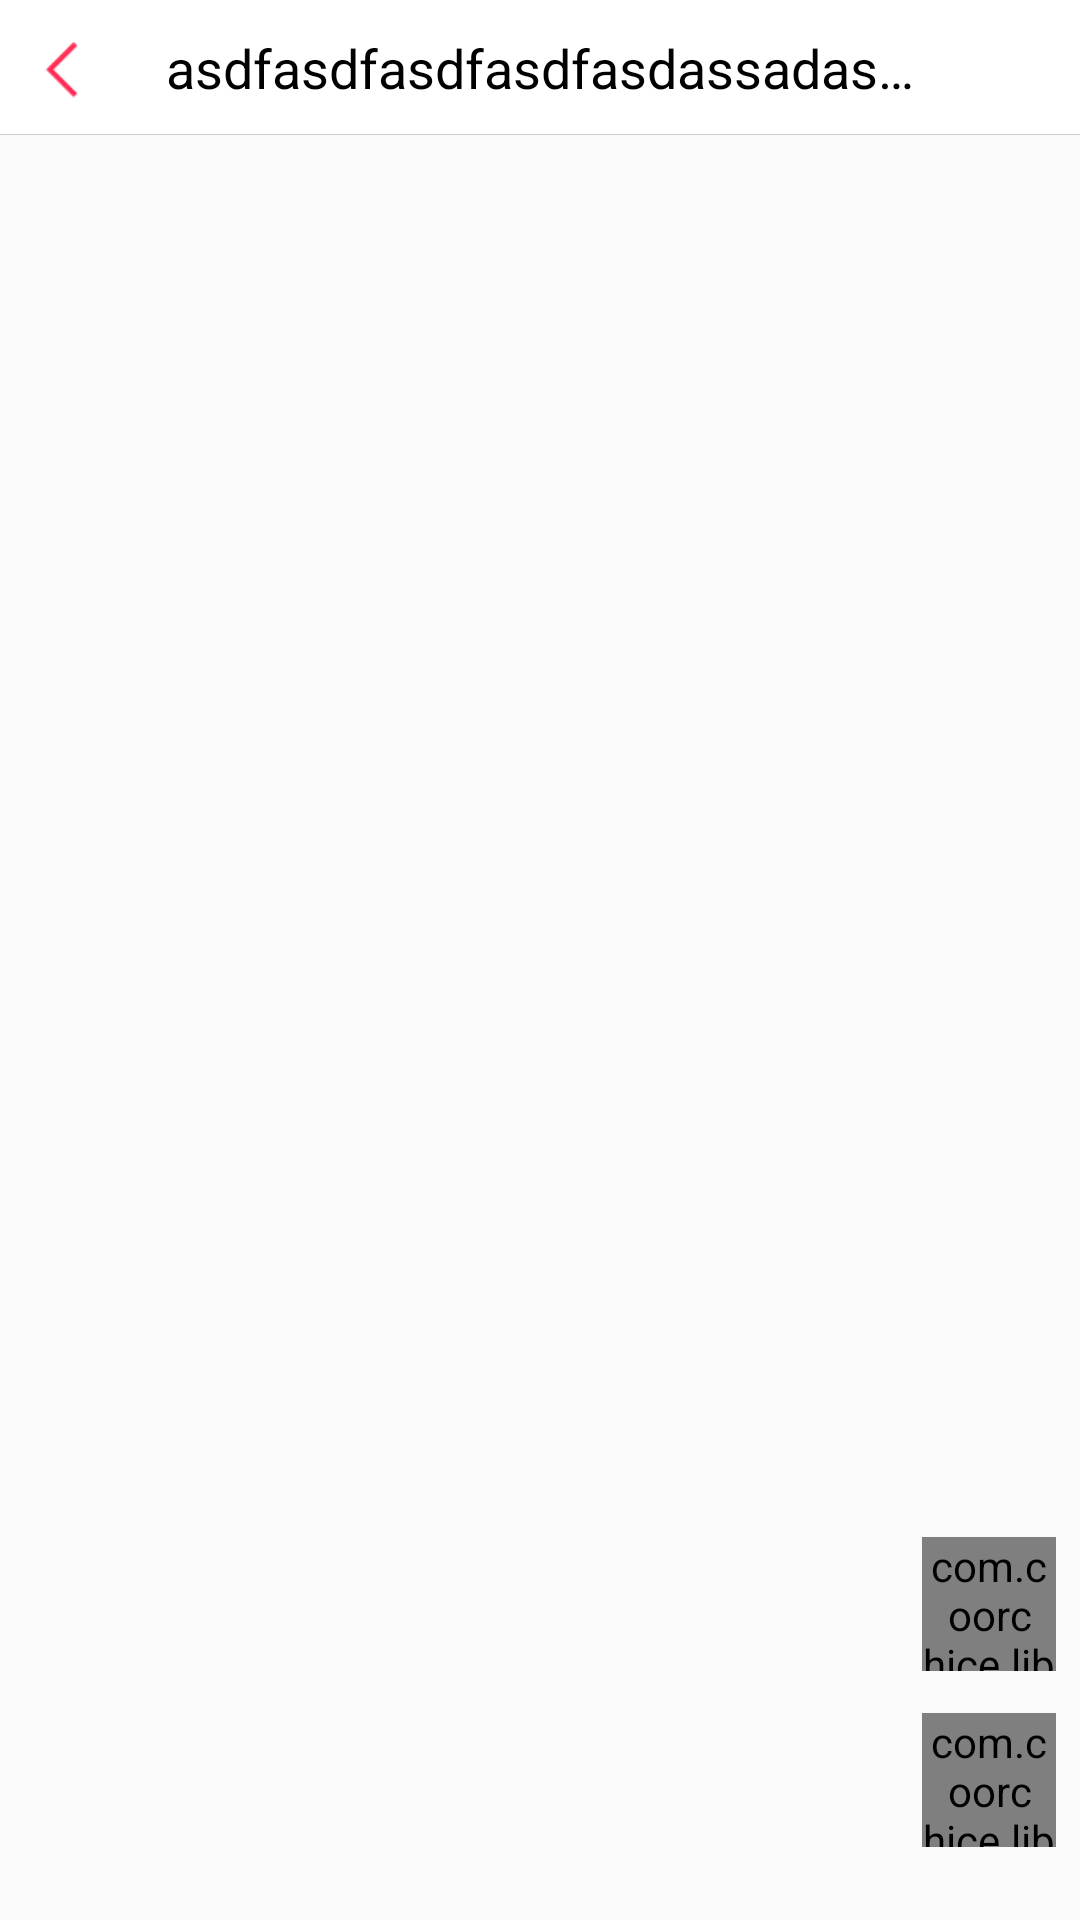

Where icons sit on this 1080×1920 app screen, as (x1, y1, x2, y2):
back: (45, 42, 77, 98)
